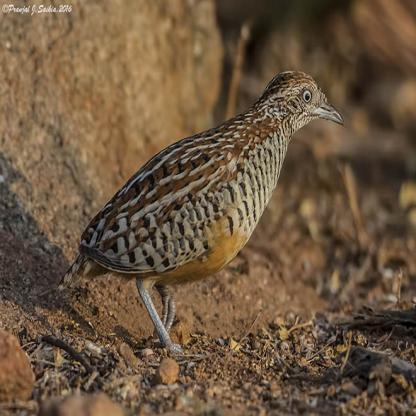Burung: (59, 70, 343, 352)
